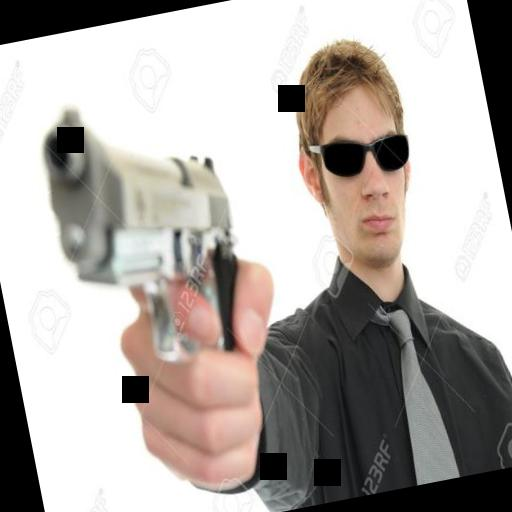Handgun: (36, 79, 280, 512)
